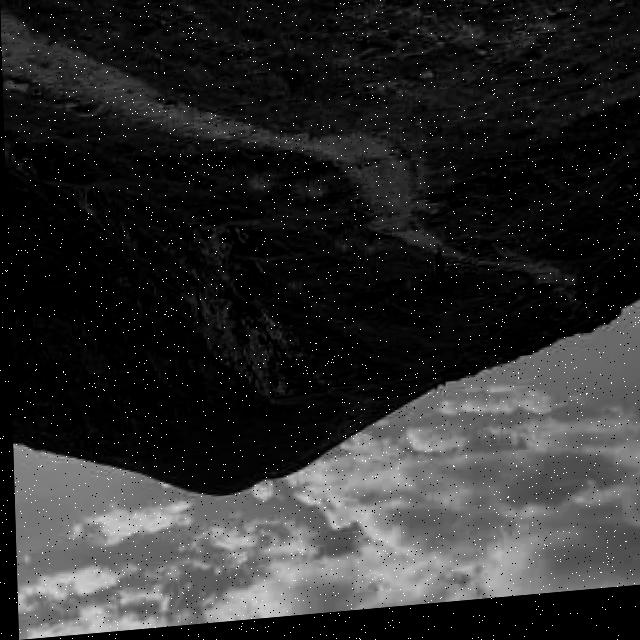Kopa Kondracka: (68, 384, 381, 608)
